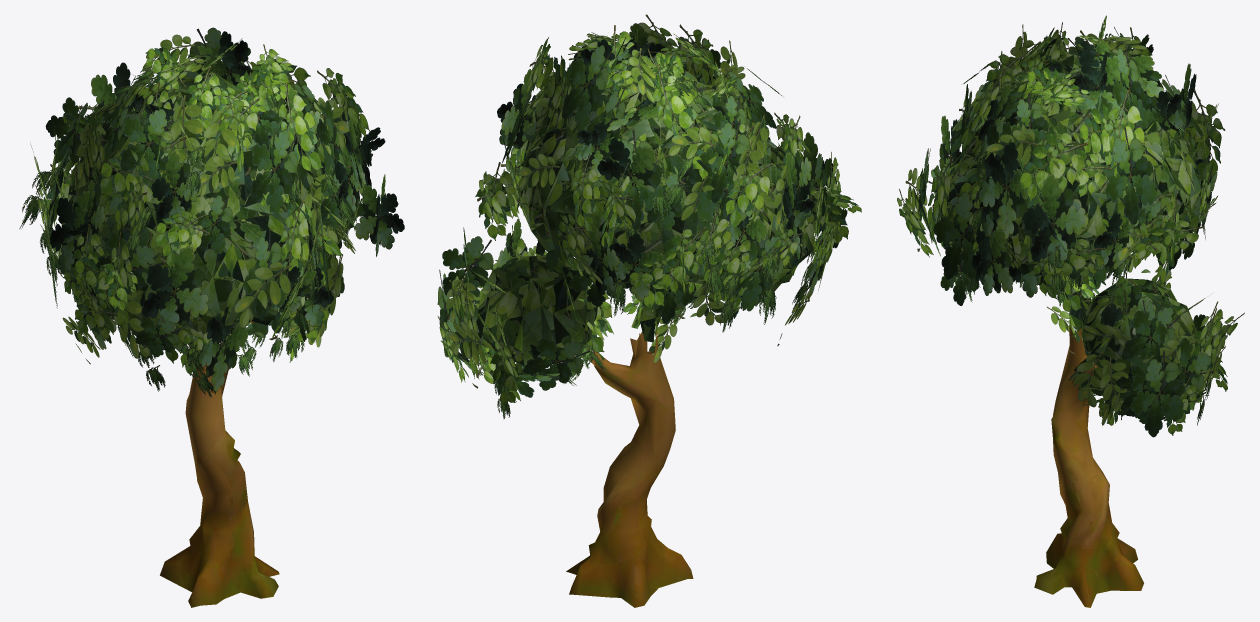
File: oak_4_field.glb
3 renders of one model, left to right at view 1: azimuth 30°, elevation 25°; view 2: azimuth 150°, elevation 25°; view 3: azimuth 270°, elevation 25°, orthographic. The views are drawn at different scales.
Visible parts, largest first — view 1: Fable_oak_4; view 2: Fable_oak_4; view 3: Fable_oak_4.
Part boxes in pixels (box(x1,y1,x2,y2)): Fable_oak_4: box(19, 27, 404, 607); Fable_oak_4: box(437, 14, 861, 607); Fable_oak_4: box(897, 15, 1244, 607).
Bounding box in the file's own units: 5.87 × 9.44 × 5.5.
Materials: 2 (2 with a texture image).
